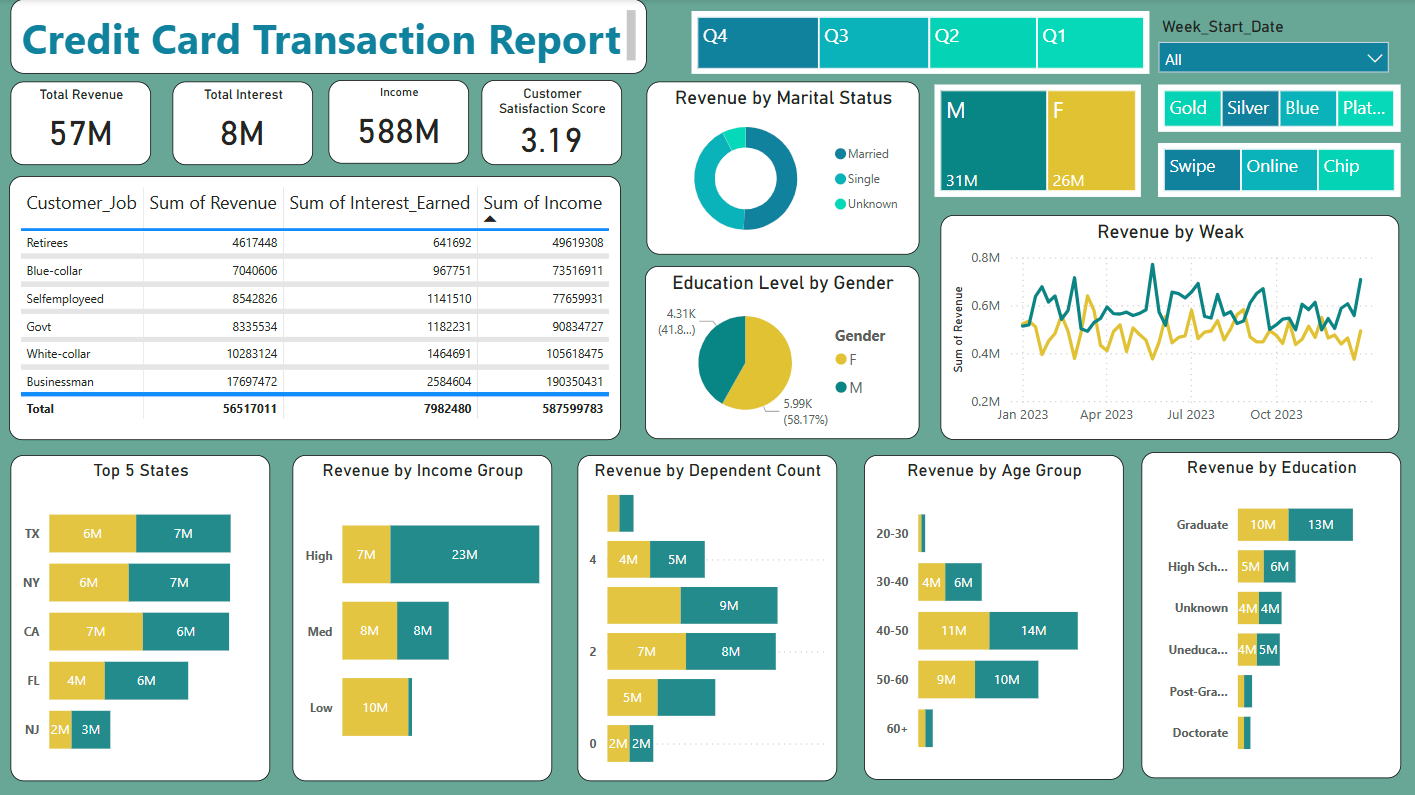

The dashboard page shown, as its layout file describes it:
{"tool":"powerbi","page":{"name":"CC Customer","canvas":[1280,720],"ordinal":1},"visuals":[{"type":"textbox","box":[11.8,0,573.5,67.6],"z":0},{"type":"barChart","title":"Revenue by Income Group","fields":{"Y":["Sum(public cc_detail.Revenue)"],"Category":["public cust_detail.IncomeGroup"],"Series":["public cust_detail.Gender"]},"box":[266.2,410.3,233.8,294.1],"z":1000},{"type":"tableEx","fields":{"Values":["public cust_detail.Customer_Job","Sum(public cc_detail.Revenue)","Sum(public cc_detail.Interest_Earned)","Sum(public cust_detail.Income)"]},"box":[11,159.1,551.3,237.8],"z":2000},{"type":"card","title":"Total Revenue","fields":{"Values":["Sum(public cc_detail.Revenue)"]},"box":[11.8,75,126.5,75],"z":3000},{"type":"card","title":"Income","fields":{"Values":["Sum(public cust_detail.Income)"]},"box":[298.5,73.5,126.5,75],"z":4000},{"type":"card","title":"Total Interest","fields":{"Values":["Sum(public cc_detail.Interest_Earned)"]},"box":[158.8,75,126.5,75],"z":5000},{"type":"card","title":"Customer Satisfaction Score","fields":{"Values":["Avg(public cust_detail.Cust_Satisfaction_Score)"]},"box":[436.8,73.5,126.5,76.5],"z":6000},{"type":"slicer","fields":{"Values":["public cc_detail.Week_Start_Date"]},"box":[1037.1,11.4,227.1,65.7],"z":7000},{"type":"treemap","fields":{"Group":["public cc_detail.Qtr"],"Values":["Avg(public cc_detail.Client_Num)"]},"box":[625.3,11,412.7,56.7],"z":8000},{"type":"treemap","fields":{"Values":["Avg(public cc_detail.Client_Num)"],"Group":["public cc_detail.Card_Category"]},"box":[1045.7,77.1,218.6,42.9],"z":9000},{"type":"treemap","fields":{"Values":["Avg(public cc_detail.Client_Num)"],"Group":["public cc_detail.Use Chip"]},"box":[1045.7,130,218.6,48.6],"z":10000},{"type":"lineChart","title":"Revenue by Weak","fields":{"Y":["Sum(public cc_detail.Revenue)"],"Series":["public cust_detail.Gender"],"Category":["public cc_detail.Week_Start_Date.Variation.Date Hierarchy.Year","public cc_detail.Week_Start_Date.Variation.Date Hierarchy.Month","public cc_detail.Week_Start_Date.Variation.Date Hierarchy.Day"]},"box":[850,194.1,413.2,202.9],"z":11000},{"type":"treemap","fields":{"Group":["public cust_detail.Gender"],"Values":["Sum(public cc_detail.Revenue)"]},"box":[844.6,77,186.3,101.3],"z":12000},{"type":"barChart","title":"Revenue by Age Group","fields":{"Y":["Sum(public cc_detail.Revenue)"],"Category":["public cust_detail.AgeGroup"],"Series":["public cust_detail.Gender"]},"box":[780.9,410.3,233.8,292.6],"z":13000},{"type":"barChart","title":"Revenue by Dependent Count","fields":{"Y":["Sum(public cc_detail.Revenue)"],"Category":["public cust_detail.Dependent_Count"],"Series":["public cust_detail.Gender"]},"box":[523.5,410.3,233.8,294.1],"z":14000},{"type":"barChart","title":"Revenue by Education","fields":{"Y":["Sum(public cc_detail.Revenue)"],"Category":["public cust_detail.Education_Level"],"Series":["public cust_detail.Gender"]},"box":[1030.9,408.8,233.8,294.1],"z":15000},{"type":"barChart","title":"Top 5 States","fields":{"Y":["Sum(public cc_detail.Revenue)"],"Category":["public cust_detail.state_cd"],"Series":["public cust_detail.Gender"]},"box":[11.8,410.3,233.8,294.1],"z":16000},{"type":"donutChart","title":"Revenue by Marital Status","fields":{"Category":["public cust_detail.Marital_Status"],"Y":["Sum(public cc_detail.Revenue)"]},"box":[585.9,74,245.7,155.9],"z":17000},{"type":"pieChart","title":"Education Level by Gender","fields":{"Category":["public cust_detail.Gender"],"Y":["CountNonNull(public cust_detail.Education_Level)"]},"box":[584.4,241,247.3,155.9],"z":17001}]}

Visuals, with their boxes in screenshot pixels (x1, y1, x2, y2), scaled from the page's 1280x720 canvas onto the 1415x795 screenshot:
textbox: (13,0,647,75)
"Revenue by Income Group" barChart: (294,453,553,778)
tableEx - public cust_detail.Customer_Job x Sum(public cc_detail.Revenue): (12,176,622,438)
"Total Revenue" card: (13,83,153,166)
"Income" card: (330,81,470,164)
"Total Interest" card: (176,83,315,166)
"Customer Satisfaction Score" card: (483,81,623,166)
slicer - public cc_detail.Week_Start_Date: (1146,13,1398,85)
treemap - public cc_detail.Qtr x Avg(public cc_detail.Client_Num): (691,12,1147,75)
treemap - Avg(public cc_detail.Client_Num) x public cc_detail.Card_Category: (1156,85,1398,132)
treemap - Avg(public cc_detail.Client_Num) x public cc_detail.Use Chip: (1156,144,1398,197)
"Revenue by Weak" lineChart: (940,214,1396,438)
treemap - public cust_detail.Gender x Sum(public cc_detail.Revenue): (934,85,1140,197)
"Revenue by Age Group" barChart: (863,453,1122,776)
"Revenue by Dependent Count" barChart: (579,453,837,778)
"Revenue by Education" barChart: (1140,451,1398,776)
"Top 5 States" barChart: (13,453,272,778)
"Revenue by Marital Status" donutChart: (648,82,919,254)
"Education Level by Gender" pieChart: (646,266,919,438)
